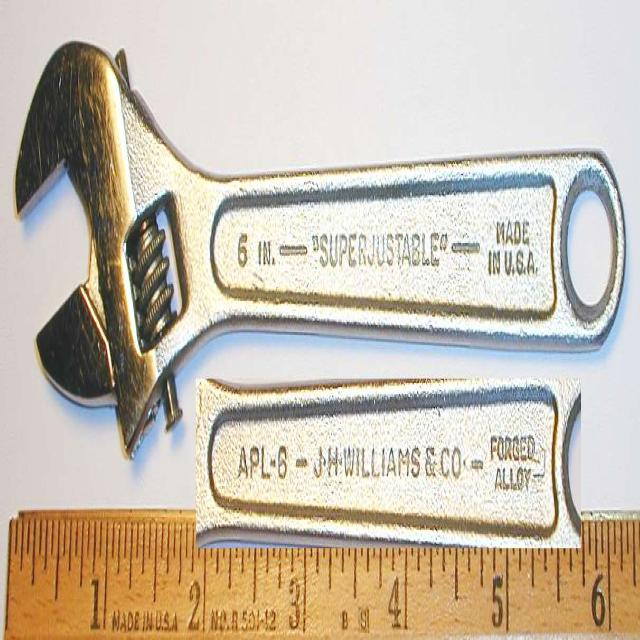wrench: (14, 35, 640, 432)
